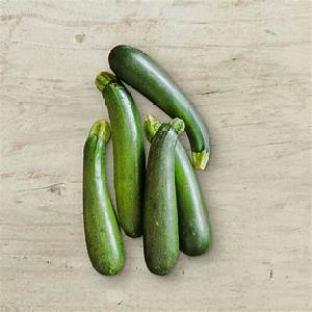Zucchini: (109, 45, 210, 169), (96, 72, 145, 237), (144, 119, 184, 274), (84, 121, 123, 275), (175, 141, 212, 255)
